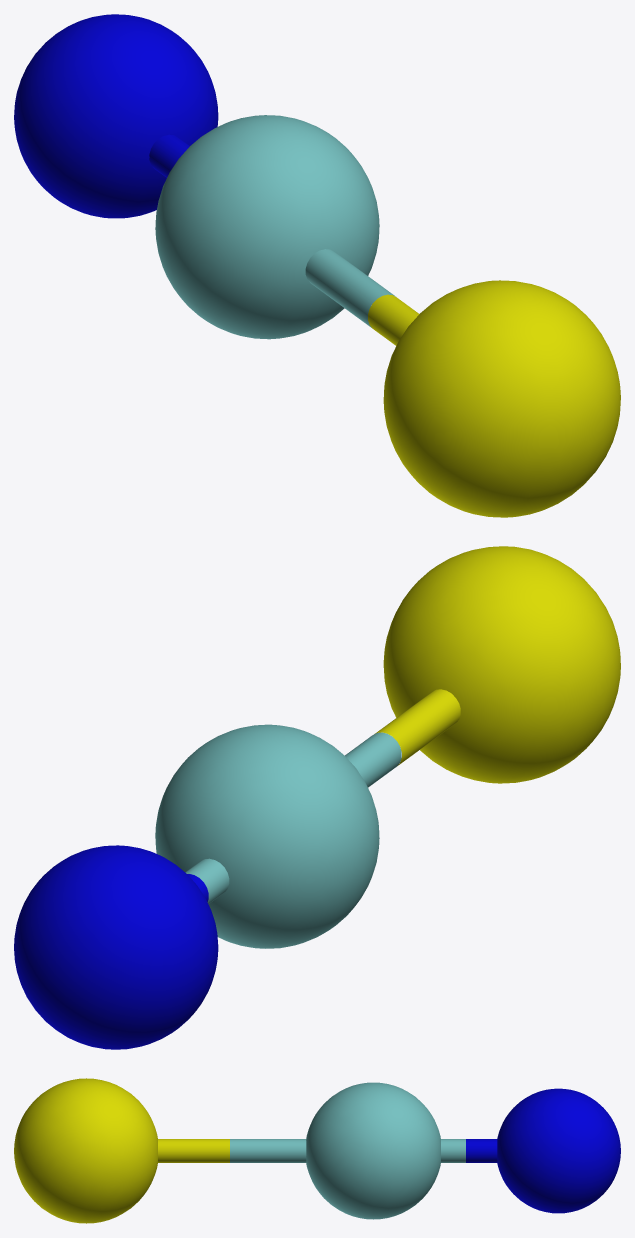
The model's file is SCN.gltf.
3 renders of one model, top to bottom at view 1: azimuth 30°, elevation 25°; view 2: azimuth 150°, elevation 25°; view 3: azimuth 270°, elevation 25°, orthographic. The views are drawn at different scales.
Parts seen in each view (by area): view 1: SCN; view 2: SCN; view 3: SCN.
Part boxes in pixels (x1=…): SCN: x1=14, y1=14, x2=620, y2=517; SCN: x1=14, y1=546, x2=620, y2=1049; SCN: x1=14, y1=1078, x2=620, y2=1223.
Bounding box in the file's own units: 0.5341 × 0.5341 × 2.23.
